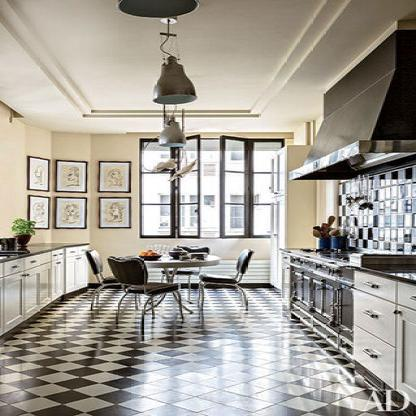chair: (110, 254, 182, 326), (194, 247, 257, 312), (80, 244, 112, 309)
light: (120, 0, 221, 179)
table: (126, 253, 219, 324)
